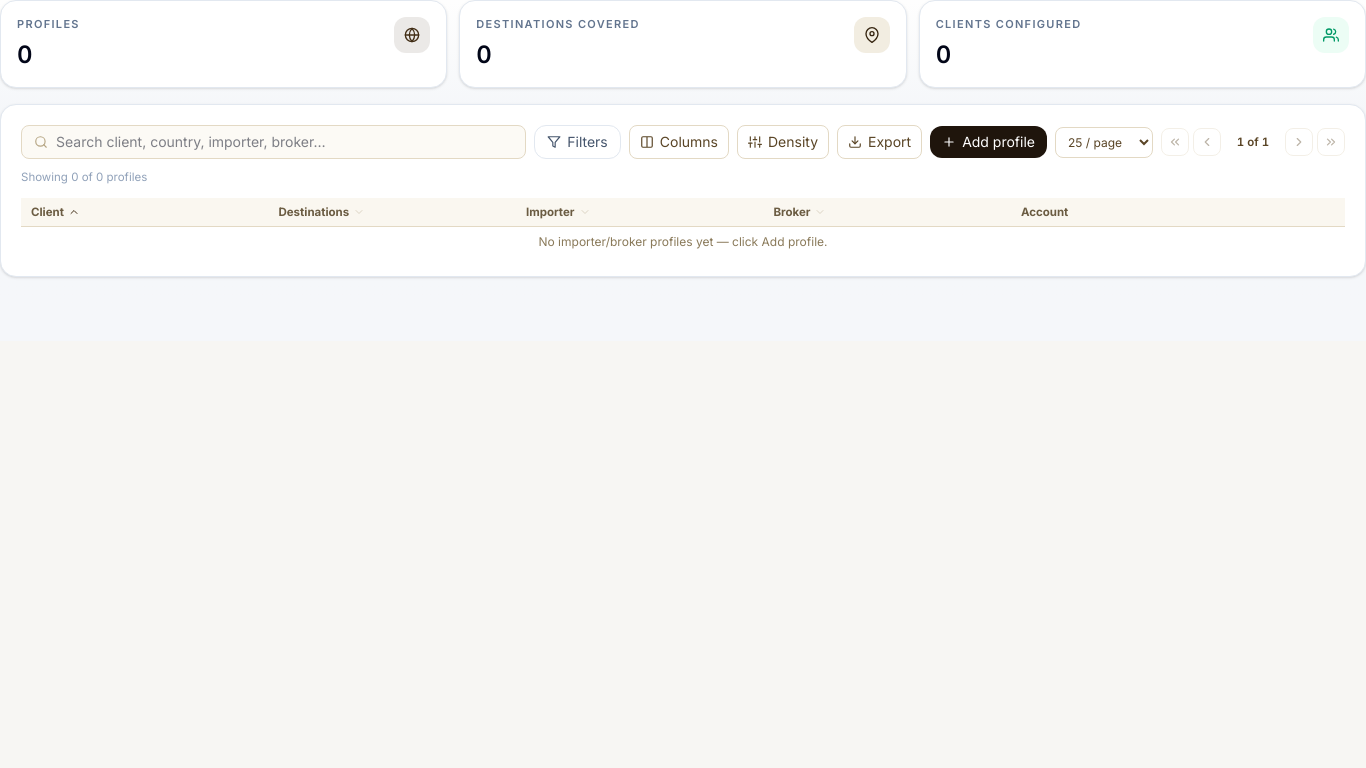
Test: ImporterBrokerPage — filter counter + Clear › applying 2 filters shows counter chip "2" on Filters button
Click the button "Filters" at (577, 142), box top-left (534, 125), bottom-right (621, 159)
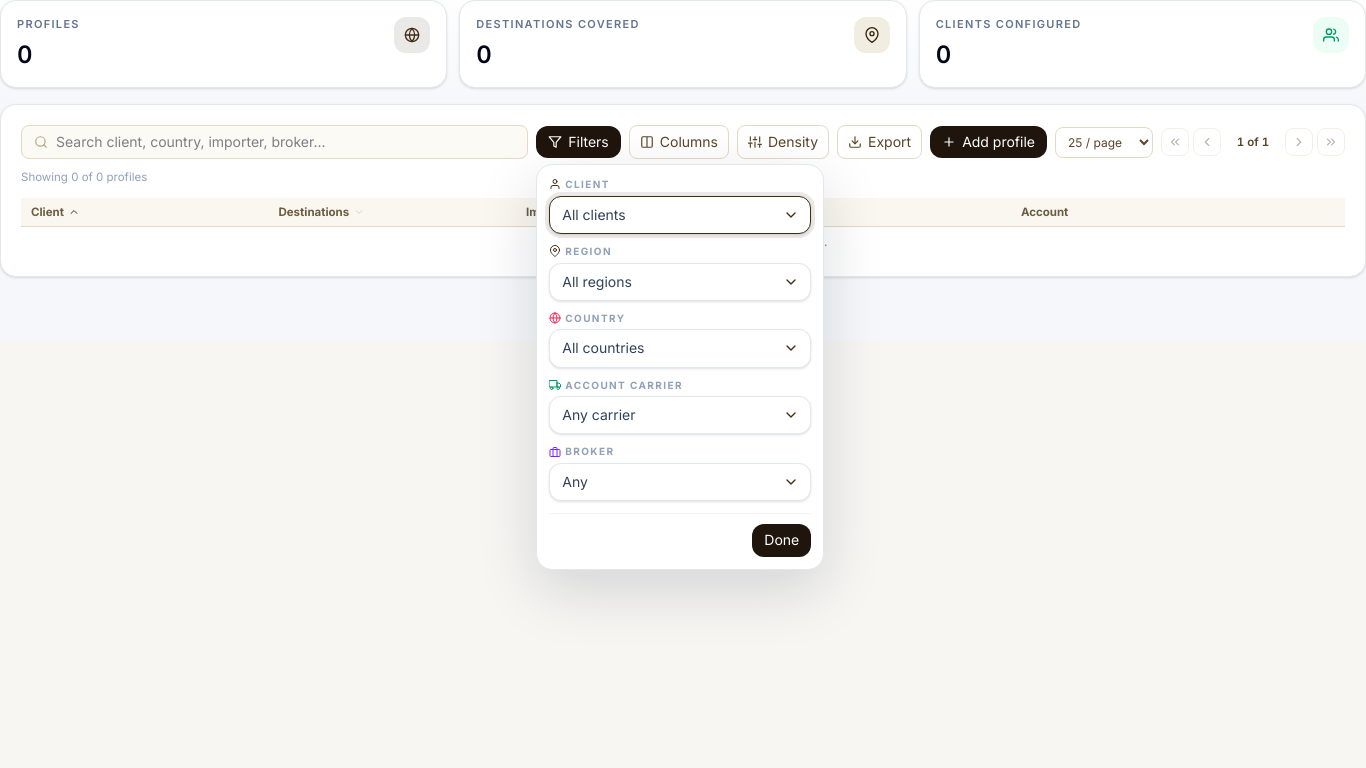
Select "ACME" in the dropdown named "Filter by client" at (680, 215), box top-left (549, 196), bottom-right (811, 234)
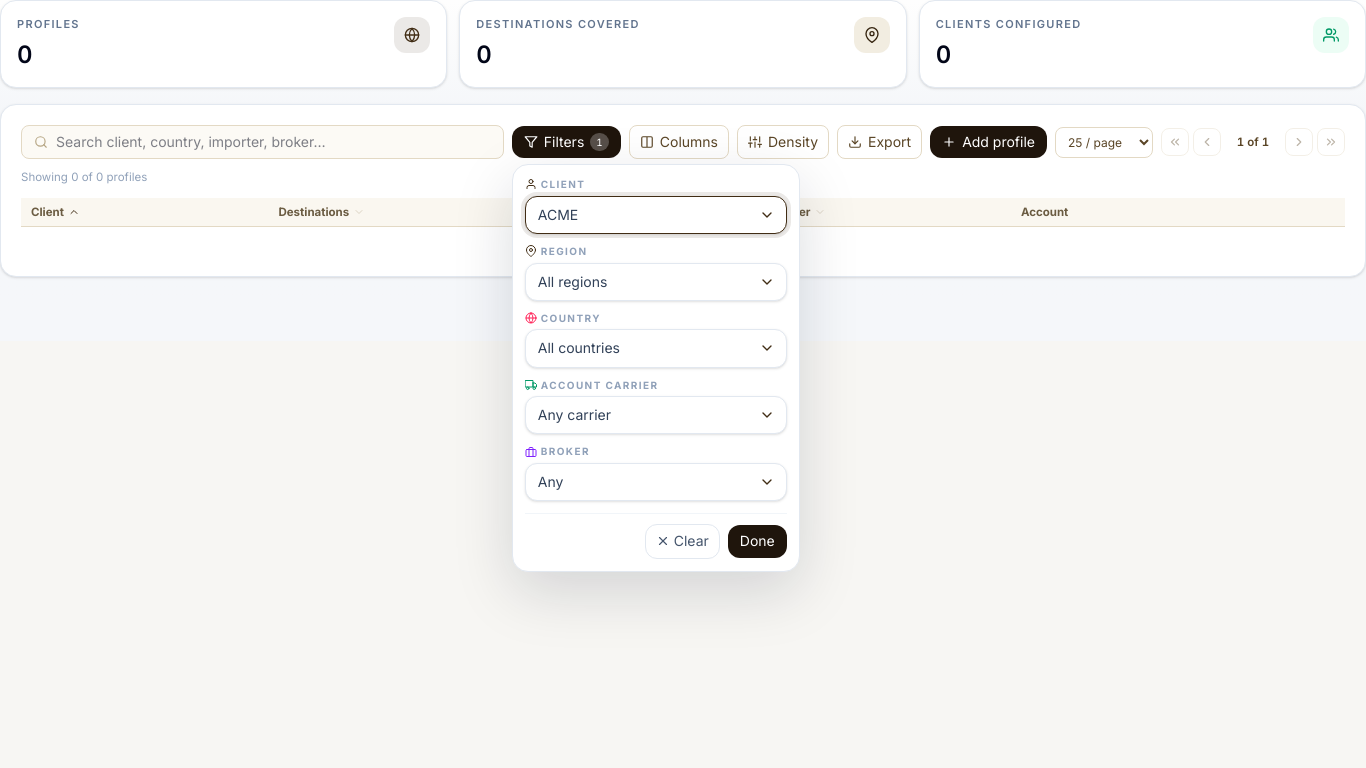
Expected: the button "Filters 1" is shown, top-left (512, 126), bottom-right (621, 158)
Select "UPS" in the dropdown named "Filter by carrier" at (656, 415), box top-left (525, 396), bottom-right (787, 434)
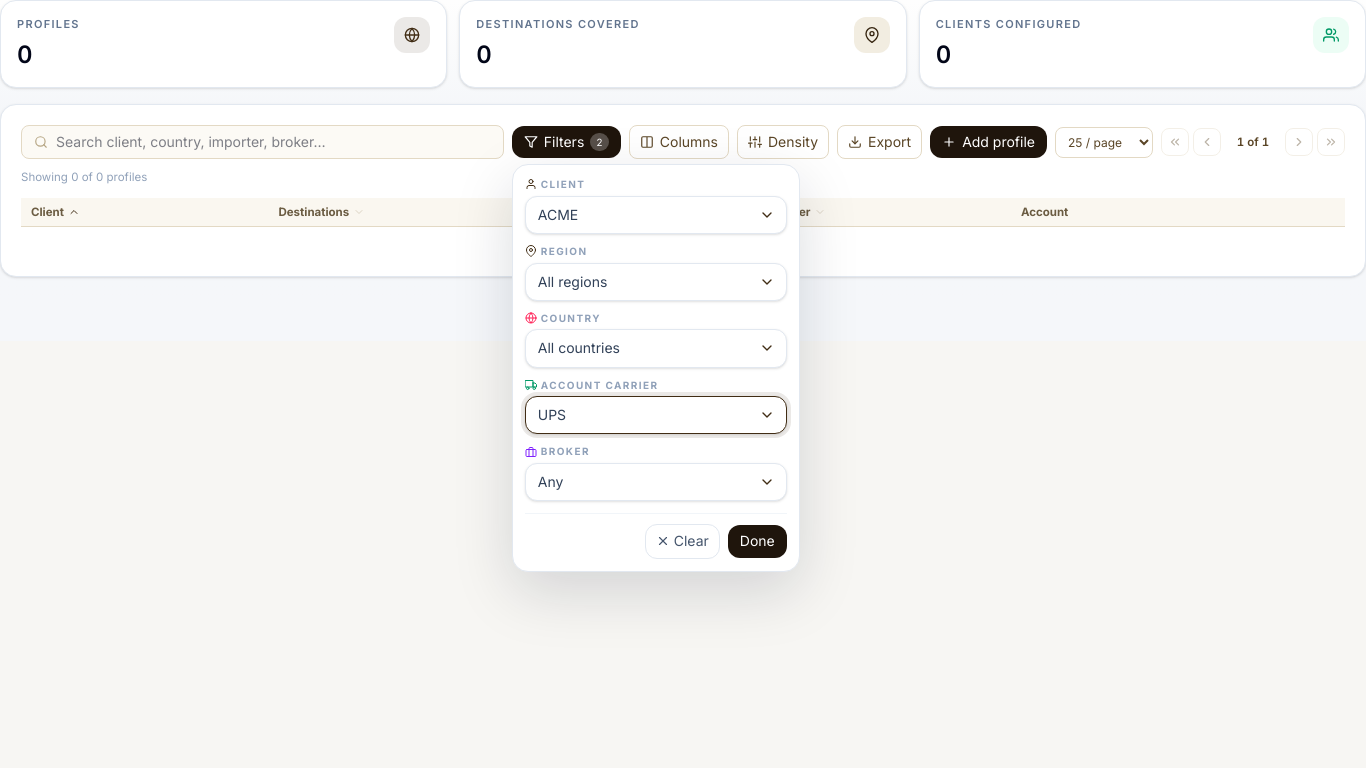
Expected: the button "Filters 2" is shown, top-left (512, 126), bottom-right (621, 158)
